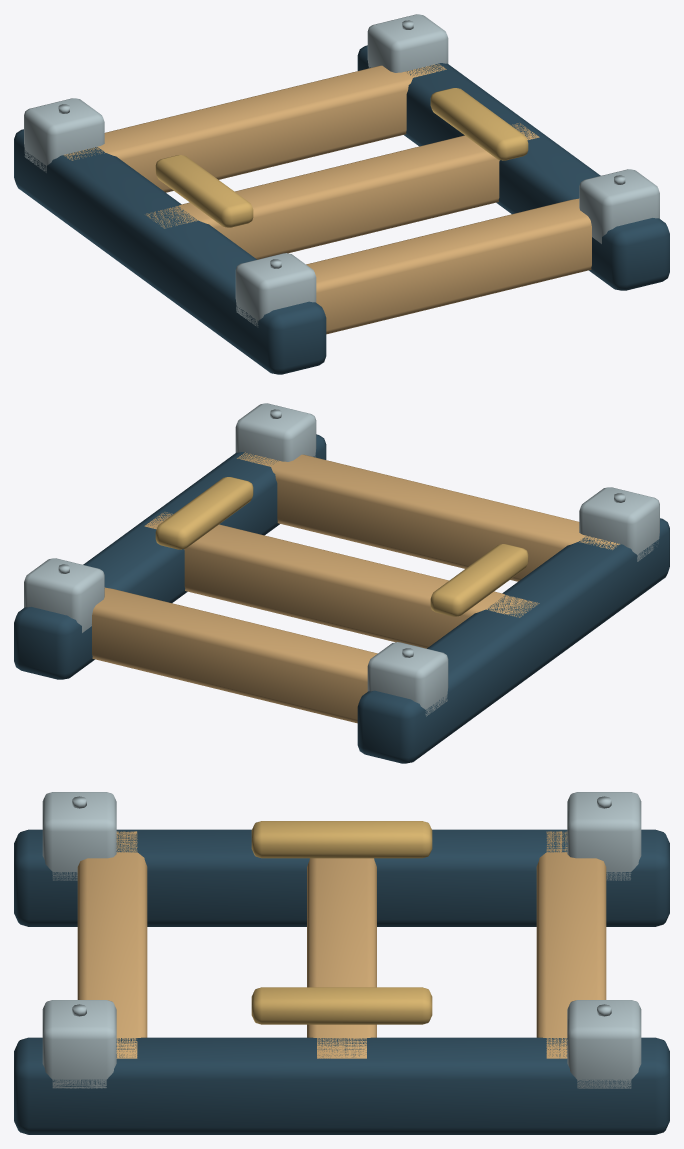
File: cargo_mount.glb
The picture shows the model from 3 angles, top to bottom: view 1: azimuth 30°, elevation 25°; view 2: azimuth 150°, elevation 25°; view 3: azimuth 270°, elevation 25°; orthographic projection. The views are drawn at different scales.
Parts seen in each view (by area): view 1: cargo_mount_WoodLight, cargo_mount_Navy, cargo_mount_Aluminium, cargo_mount_Brass; view 2: cargo_mount_WoodLight, cargo_mount_Navy, cargo_mount_Aluminium, cargo_mount_Brass; view 3: cargo_mount_Navy, cargo_mount_WoodLight, cargo_mount_Aluminium, cargo_mount_Brass.
Boxes of the visible parts, x1,y1,x2,y2 form: cargo_mount_WoodLight: (63,64,591,334); cargo_mount_Navy: (14,45,669,374); cargo_mount_Aluminium: (24,14,659,327); cargo_mount_Brass: (155,88,528,227); cargo_mount_WoodLight: (92,452,620,723); cargo_mount_Navy: (14,434,669,763); cargo_mount_Aluminium: (24,403,659,716); cargo_mount_Brass: (155,477,528,616); cargo_mount_Navy: (14,829,669,1134); cargo_mount_WoodLight: (77,831,606,1058); cargo_mount_Aluminium: (42,792,641,1088); cargo_mount_Brass: (251,821,432,1024).
Bounding box in the file's own units: 0.7 × 0.156 × 0.8.
